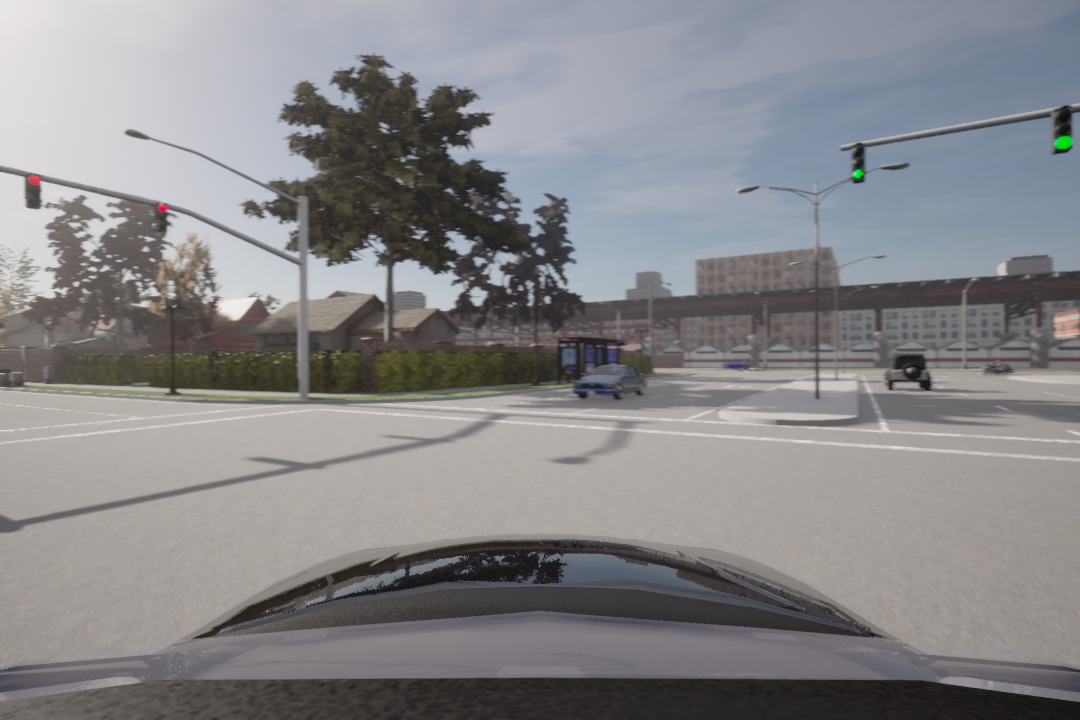TrafficLight: (1048, 101, 1074, 158), (23, 173, 47, 216), (847, 137, 868, 182), (152, 195, 171, 234)
